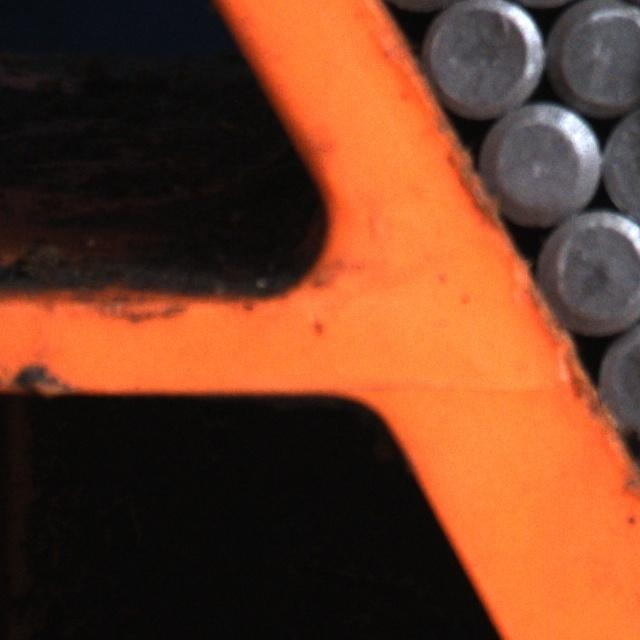tool: (478, 99, 603, 227), (421, 0, 544, 120), (542, 208, 640, 336), (548, 0, 640, 115)
